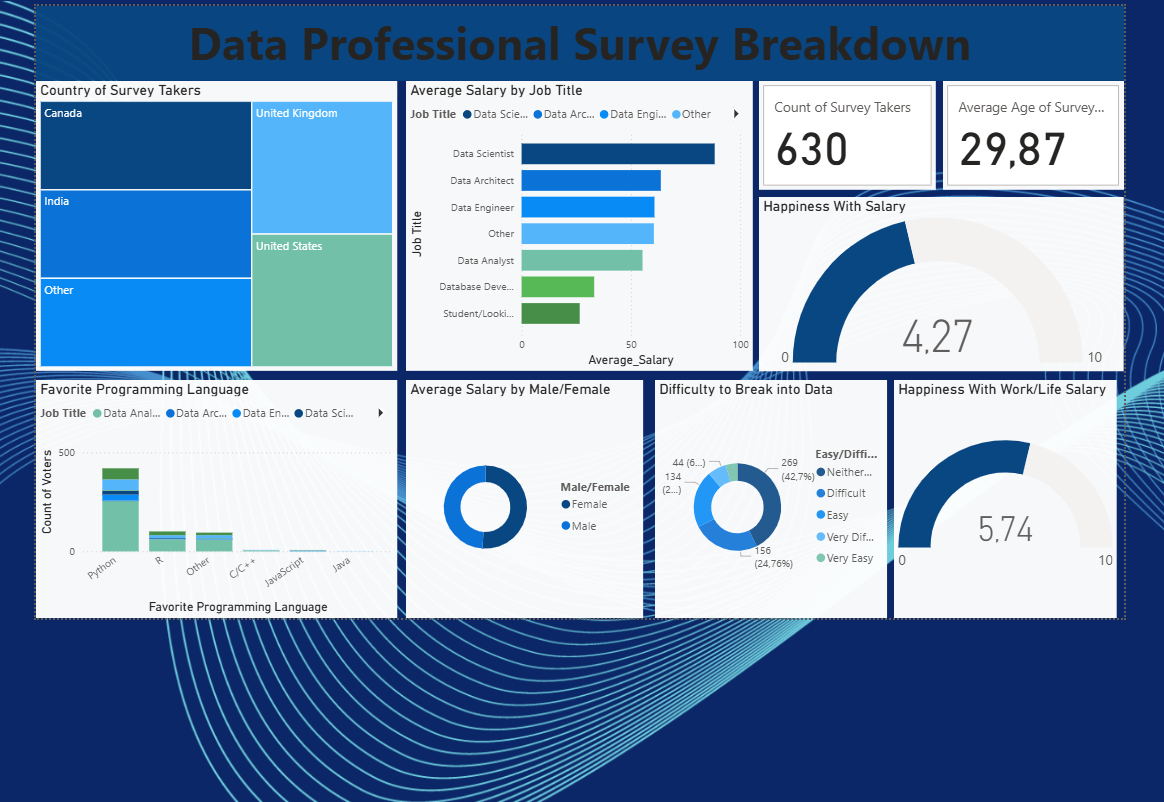

What the dashboard file says about the page in this screenshot:
{"tool":"powerbi","page":{"name":"Page 1","canvas":[1280,720],"ordinal":0},"visuals":[{"type":"textbox","box":[0,0,1280,88.2],"z":0},{"type":"cardVisual","fields":{"Data":["CountNonNull(Data Professional Survey.Unique ID)"]},"box":[850.6,88.2,208.2,128.2],"z":1},{"type":"cardVisual","fields":{"Data":["Avg(Data Professional Survey.Q10 - Current Age)"]},"box":[1067.1,88.2,212.9,128.2],"z":2},{"type":"barChart","title":"Average Salary by Job Title","fields":{"Category":["Data Professional Survey.Q1 - Which Title Best Fits your Current Role?.1"],"Y":["Avg(Data Professional Survey.Average_Salary)"],"Series":["Data Professional Survey.Q1 - Which Title Best Fits your Current Role?.1"]},"box":[435.3,88.2,408.2,341.2],"z":3},{"type":"columnChart","title":"Favorite Programming Language","fields":{"Category":["Data Professional Survey.Q5 - Favorite Programming Language.1"],"Y":["CountNonNull(Data Professional Survey.Unique ID)"],"Series":["Data Professional Survey.Q1 - Which Title Best Fits your Current Role?.1"]},"box":[0,440,424.7,280],"z":4},{"type":"treemap","title":"Country of Survey Takers","fields":{"Group":["Data Professional Survey.Q11 - Which Country do you live in?.1"],"Values":["Count(Data Professional Survey.Q11 - Which Country do you live in?.1)"]},"box":[0,88.2,424.7,341.2],"z":5},{"type":"gauge","title":"Happiness With Work/Life Salary","fields":{"Y":["Avg(Data Professional Survey.Q6 - How Happy are you in your Current Position with the following? (Work/Life Balance))"],"MinValue":["Min(Data Professional Survey.Q6 - How Happy are you in your Current Position with the following? (Work/Life Balance))"],"MaxValue":["Max(Data Professional Survey.Q6 - How Happy are you in your Current Position with the following? (Work/Life Balance))1"]},"box":[1009.4,440,262.4,280],"z":6},{"type":"gauge","title":"Happiness With Salary","fields":{"Y":["Avg(Data Professional Survey.Q6 - How Happy are you in your Current Position with the following? (Salary))"],"MinValue":["Min(Data Professional Survey.Q6 - How Happy are you in your Current Position with the following? (Salary))1"],"MaxValue":["Max(Data Professional Survey.Q6 - How Happy are you in your Current Position with the following? (Salary))2"]},"box":[850.6,224.7,429.4,204.7],"z":7},{"type":"donutChart","title":"Average Salary by Male/Female","fields":{"Category":["Data Professional Survey.Q9 - Male/Female?"],"Y":["Avg(Data Professional Survey.Average_Salary)"]},"box":[435.3,440,278.8,280],"z":8},{"type":"donutChart","title":"Difficulty to Break into Data ","fields":{"Category":["Data Professional Survey.Q7 - How difficult was it for you to break into Data?"],"Y":["CountNonNull(Data Professional Survey.Q7 - How difficult was it for you to break into Data?)"]},"box":[728.2,440,272.9,280],"z":9}]}

Visuals, with their boxes in screenshot pixels (x1, y1, x2, y2):
textbox: [24, 0, 1131, 76]
cardVisual - CountNonNull(Data Professional Survey.Unique ID): [760, 76, 940, 187]
cardVisual - Avg(Data Professional Survey.Q10 - Current Age): [947, 76, 1131, 187]
"Average Salary by Job Title" barChart: [401, 76, 754, 371]
"Favorite Programming Language" columnChart: [24, 381, 392, 623]
"Country of Survey Takers" treemap: [24, 76, 392, 371]
"Happiness With Work/Life Salary" gauge: [897, 381, 1124, 623]
"Happiness With Salary" gauge: [760, 194, 1131, 371]
"Average Salary by Male/Female" donutChart: [401, 381, 642, 623]
"Difficulty to Break into Data " donutChart: [654, 381, 890, 623]
